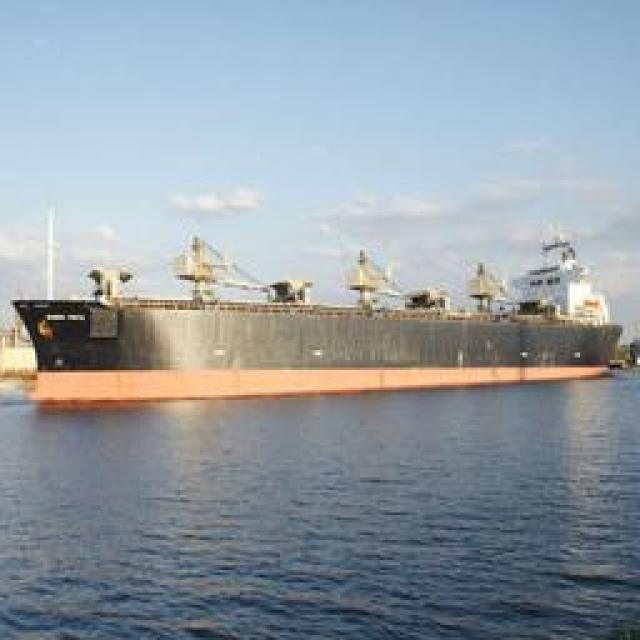ship2: (11, 188, 626, 401)
